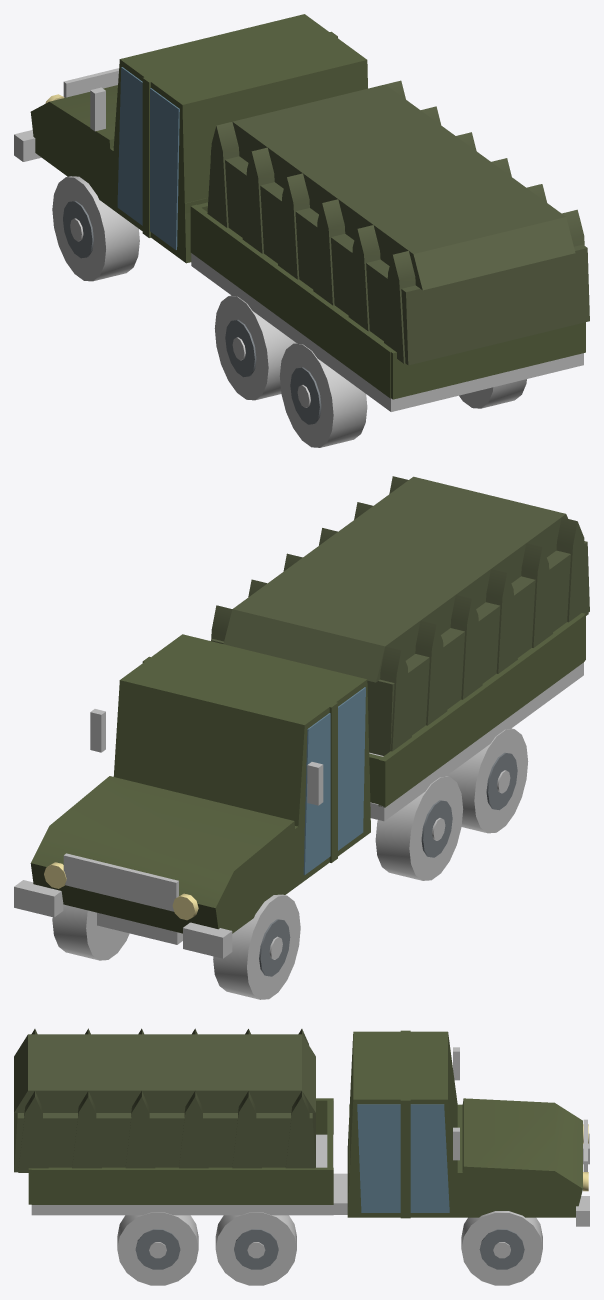
File: ural.obj
The picture shows the model from 3 angles, top to bottom: view 1: azimuth 30°, elevation 25°; view 2: azimuth 150°, elevation 25°; view 3: azimuth 270°, elevation 25°; orthographic projection. The views are drawn at different scales.
Parts seen in each view (by area): view 1: model; view 2: model; view 3: model.
Part boxes in pixels (bbox=[...]): model: bbox=[14, 14, 589, 447]; model: bbox=[14, 476, 589, 999]; model: bbox=[14, 1028, 589, 1285].
Size of the model in its own units: 2.84 by 2.94 by 8.2.
